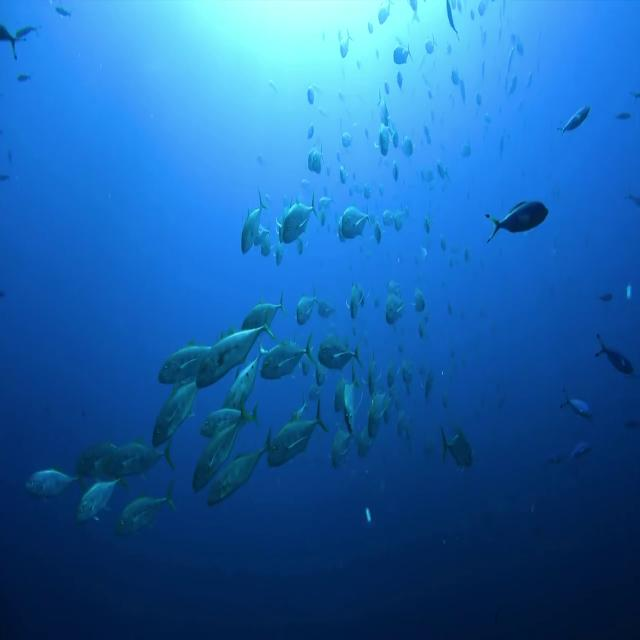fish: (202, 308, 277, 399), (199, 434, 276, 522), (265, 403, 330, 468), (255, 324, 318, 386), (484, 195, 550, 250)
